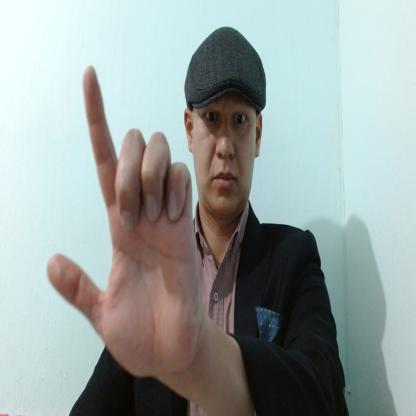L: (46, 65, 204, 377)
